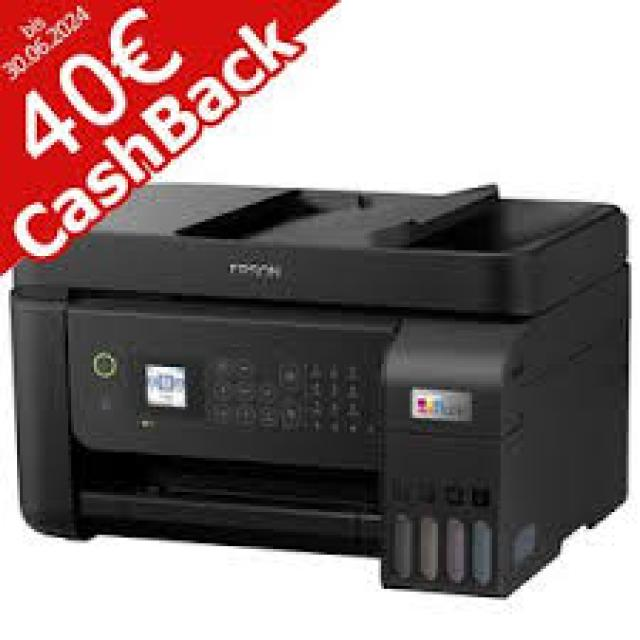printer: (9, 180, 628, 598)
